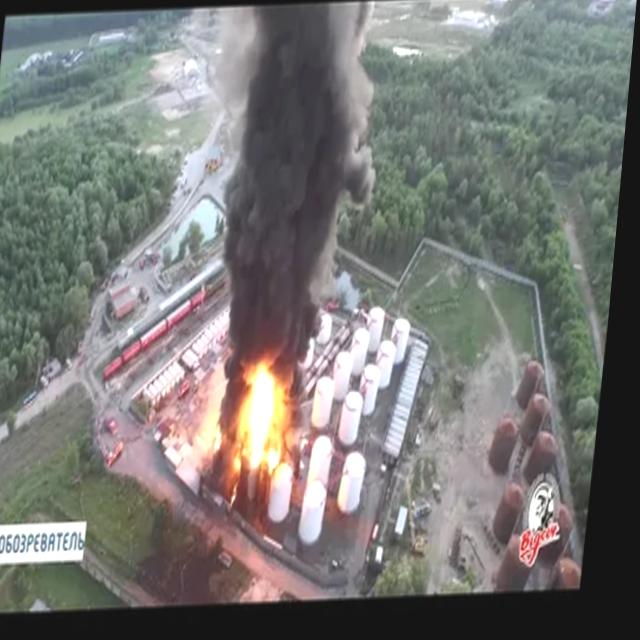no_helmet: (202, 0, 394, 422)
